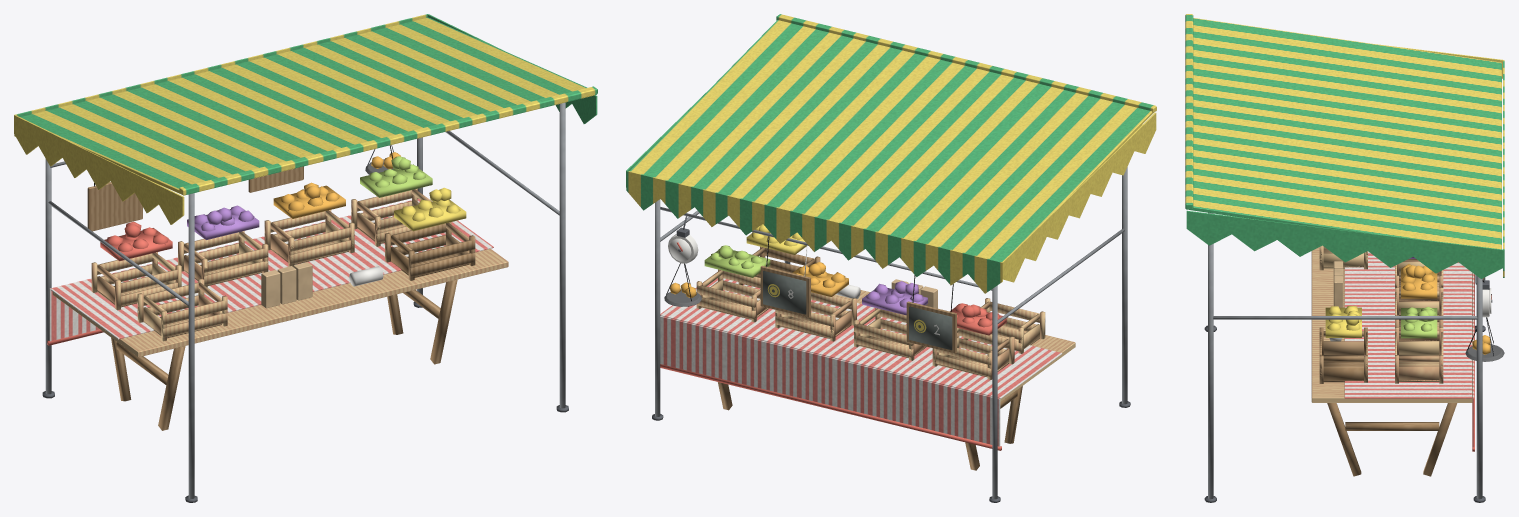
File: Feira_StallGreen.fbx
3 views of the same model, side by side, from view 1: azimuth 30°, elevation 25°; view 2: azimuth 150°, elevation 25°; view 3: azimuth 270°, elevation 25° (orthographic). The views are drawn at different scales.
Parts seen in each view (by area): view 1: Feira_StallGreen; view 2: Feira_StallGreen; view 3: Feira_StallGreen.
Part boxes in pixels (left/top/right/bottom): Feira_StallGreen: left=14, top=14, right=597, bottom=502; Feira_StallGreen: left=626, top=14, right=1156, bottom=502; Feira_StallGreen: left=1185, top=14, right=1504, bottom=502.
Bounding box in the file's own units: 3.36 × 2.52 × 2.38.
1 material, 1 textured.
